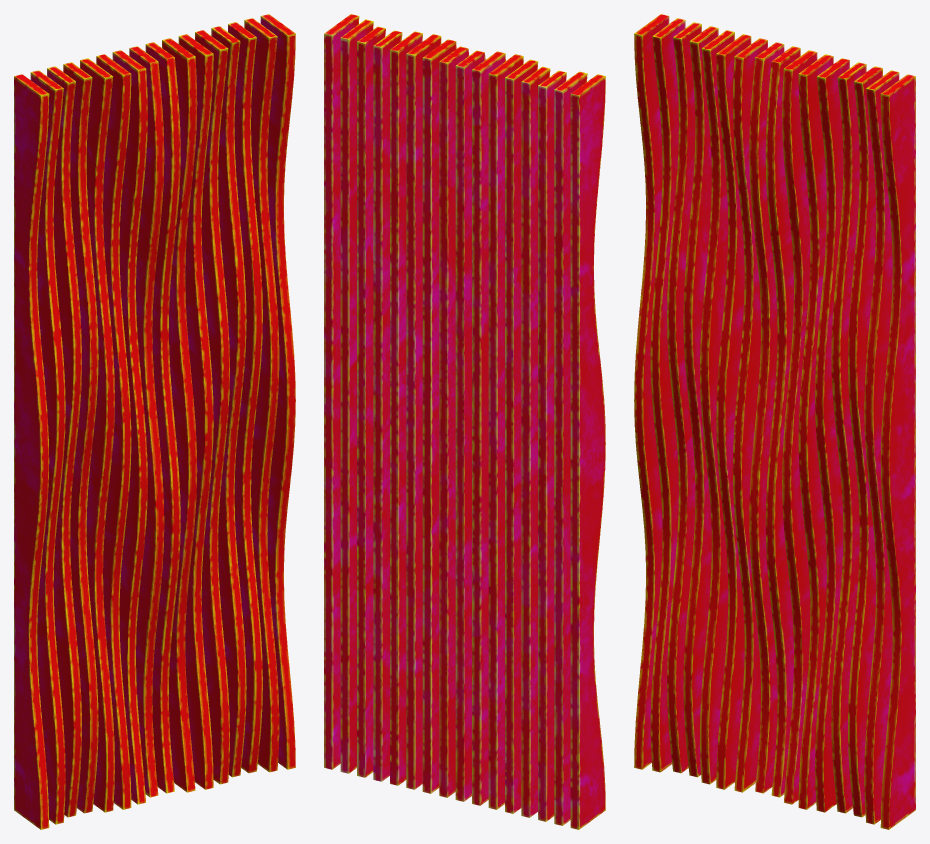
Rendered from SM_ParametricWall.fbx.
3 renders of one model, left to right at view 1: azimuth 30°, elevation 25°; view 2: azimuth 150°, elevation 25°; view 3: azimuth 330°, elevation 25°, orthographic.
Parts seen in each view (by area): view 1: SM_ParametricWall_LOD0; view 2: SM_ParametricWall_LOD0; view 3: SM_ParametricWall_LOD0.
Boxes of the visible parts, box(x1,y1,x2,y2) form: SM_ParametricWall_LOD0: box(14, 14, 295, 829); SM_ParametricWall_LOD0: box(324, 14, 605, 829); SM_ParametricWall_LOD0: box(634, 14, 915, 829).
Size of the model in its own units: 145 by 26.54 by 400.
1 material, 1 textured.
